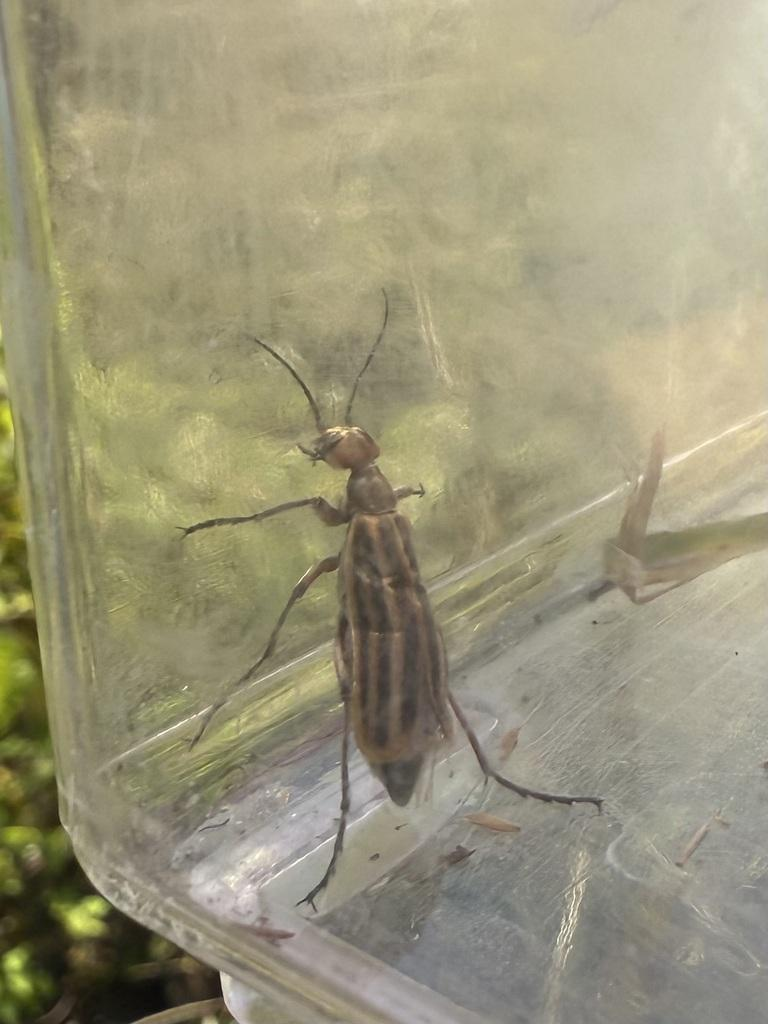blister_beetle: (109, 236, 681, 974)
